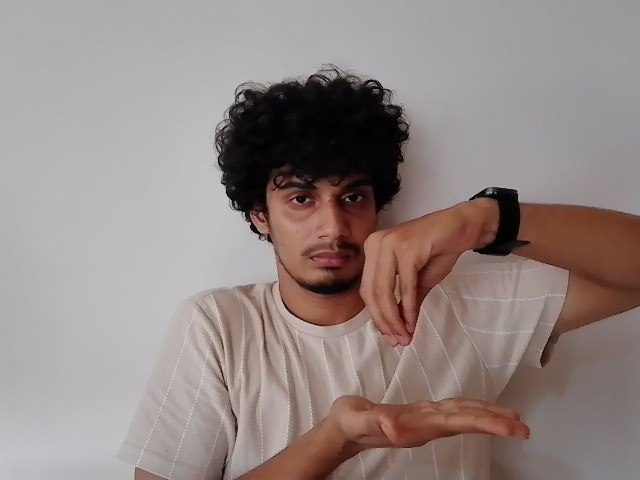learn: (328, 197, 537, 448)
